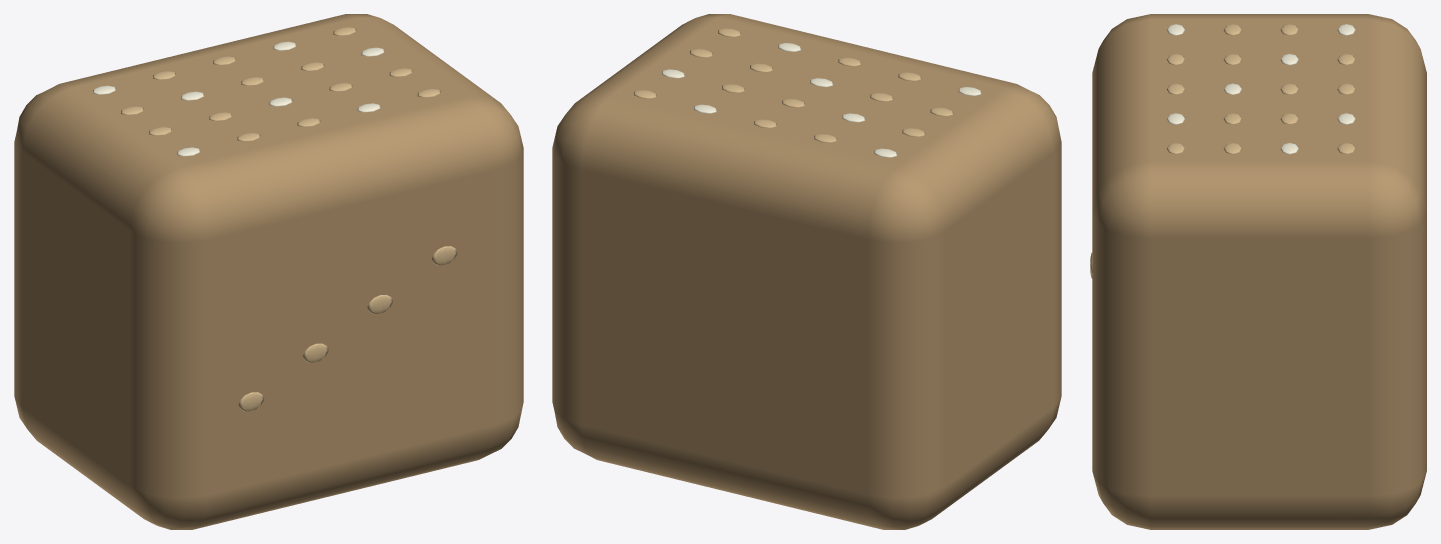
Rendered from mushroom-farm-and-grow-rooms-substrate-block-1f6300dd__30812.glb.
3 views of the same model, side by side, from view 1: azimuth 30°, elevation 25°; view 2: azimuth 150°, elevation 25°; view 3: azimuth 270°, elevation 25° (orthographic).
Parts seen in each view (by area): view 1: substrate-block; view 2: substrate-block; view 3: substrate-block.
Part boxes in pixels (x1,y1,x2,y2): substrate-block: [14, 14, 523, 529]; substrate-block: [552, 14, 1061, 529]; substrate-block: [1090, 14, 1426, 529].
Bounding box in the file's own units: 0.27 × 0.2414 × 0.2013.
